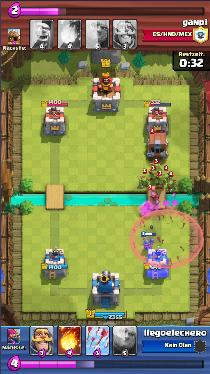ally_goblin_cage: (146, 132, 170, 159)
ally_musketeer: (141, 236, 155, 251)
enemy_archer: (130, 209, 203, 268)
enemy_mini_pekka: (148, 190, 159, 204)
enemy_spear_goblin: (152, 163, 162, 175), (166, 181, 177, 191), (138, 176, 149, 185), (150, 169, 158, 180), (164, 173, 172, 183), (157, 175, 164, 185)
